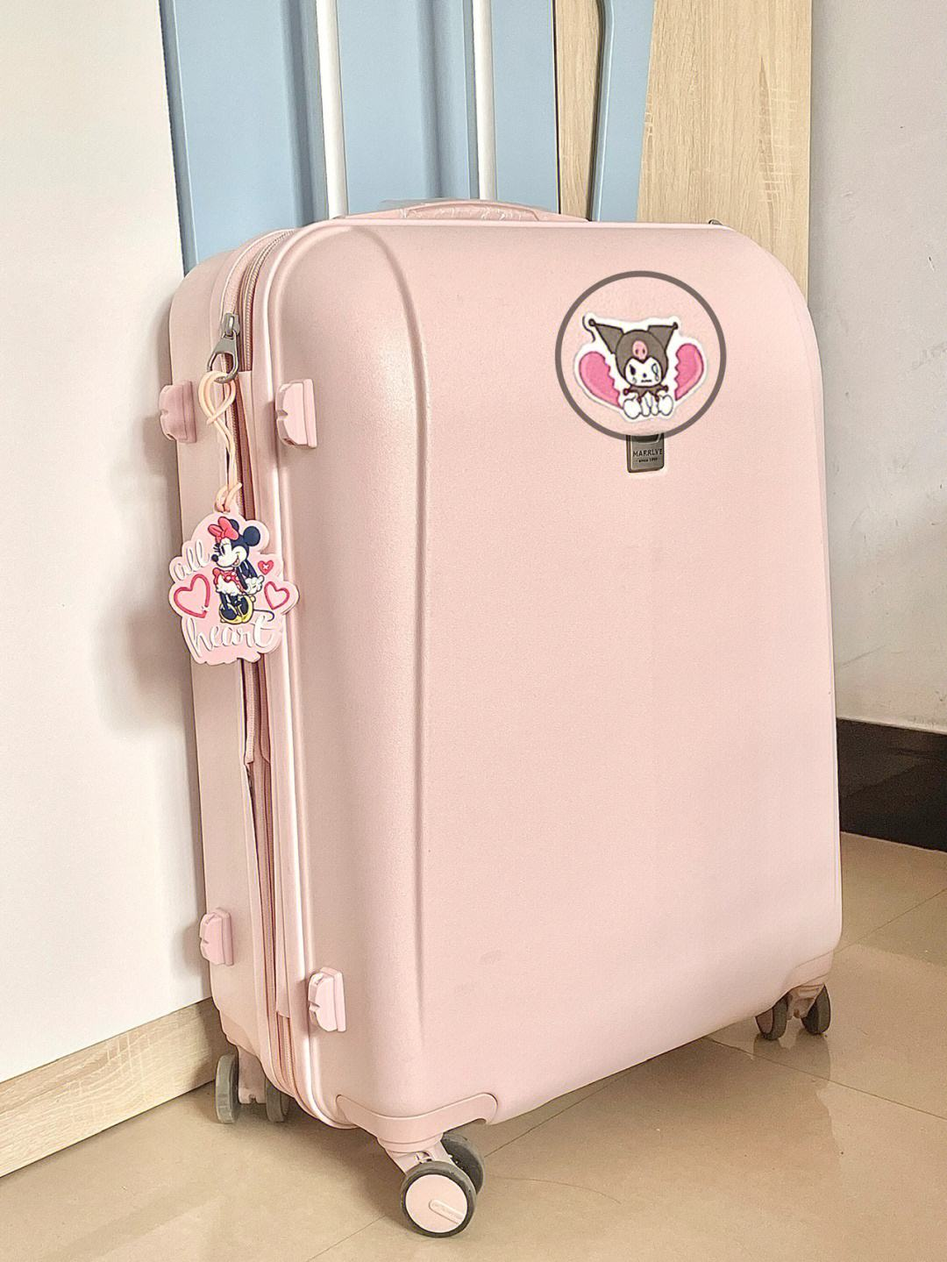box: (167, 225, 844, 1136)
handle: (331, 201, 588, 225)
wheel: (399, 1132, 484, 1238), (212, 1051, 295, 1126), (755, 984, 832, 1041)
